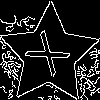X: (24, 30, 79, 84)
